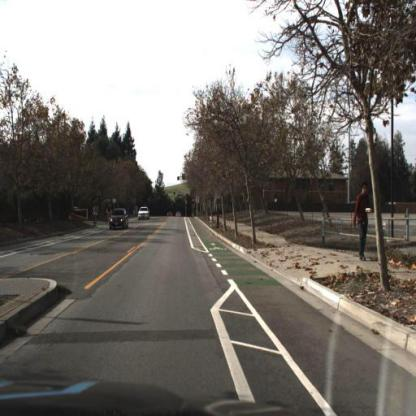biker: (93, 203, 101, 229), (93, 205, 101, 228)
car: (109, 208, 130, 231), (139, 206, 152, 221)
pedestrian: (354, 182, 371, 264)
